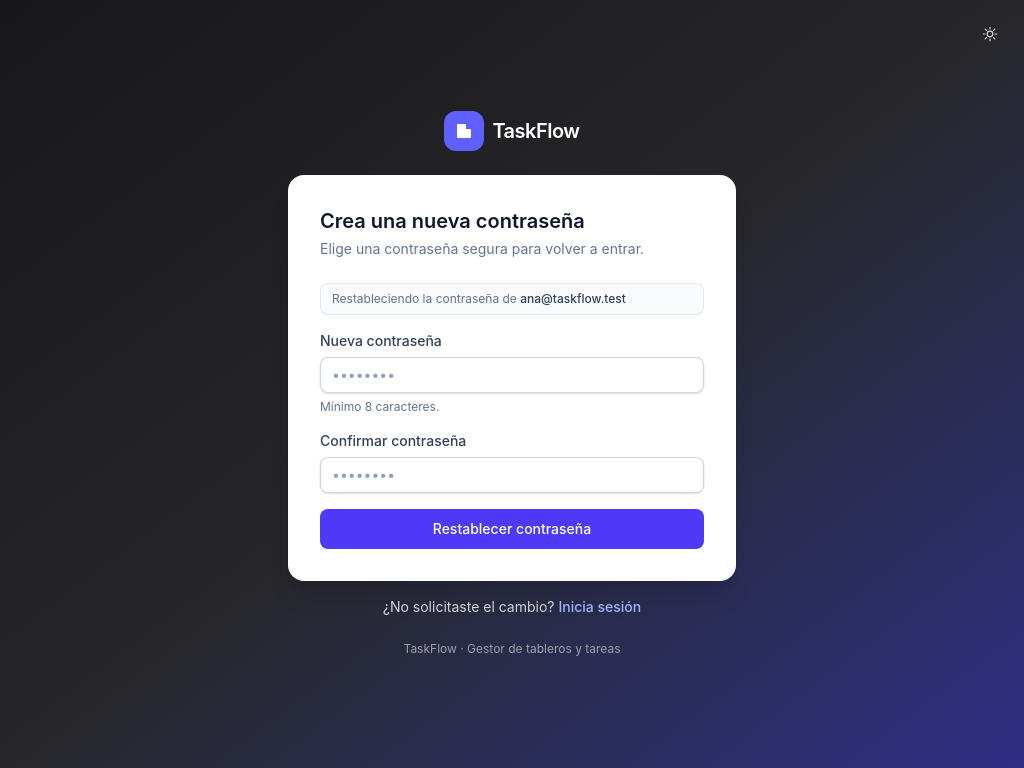
Test: ResetPasswordPage › shows the invalid token message returned by the API
In the password field labelled "Nueva contraseña": (512,375) [320,357,704,393], type "NewPassword123!"
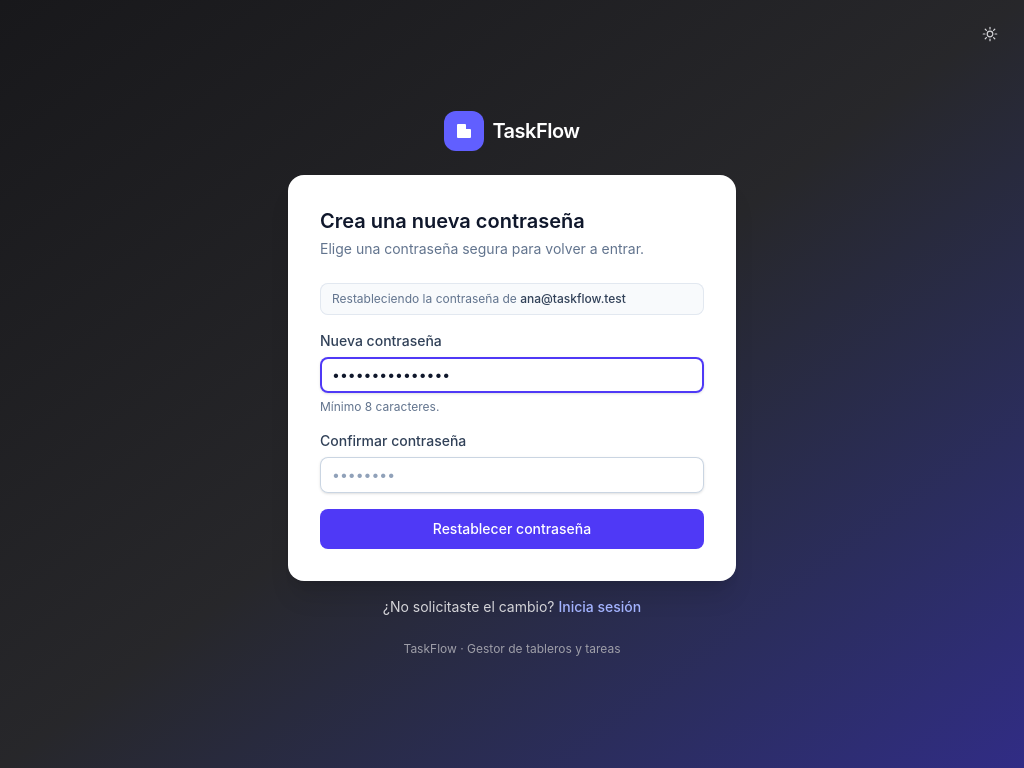
In the password field labelled "Confirmar contraseña": (512,475) [320,457,704,493], type "NewPassword123!"
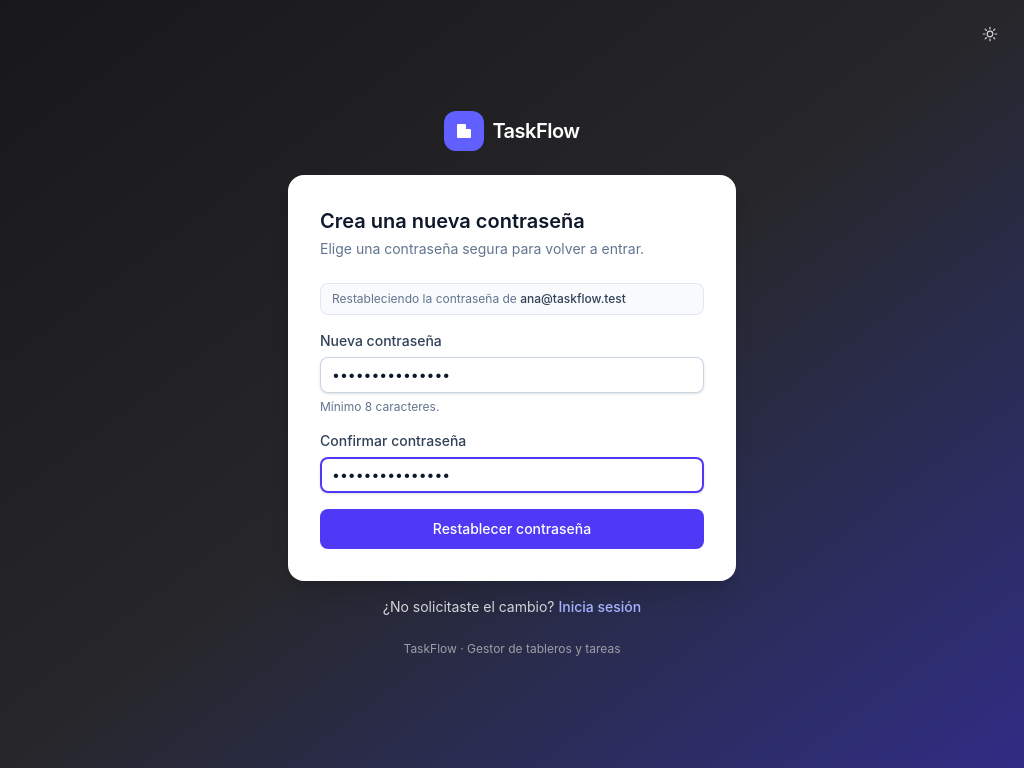
Click the button "Restablecer contraseña": (512,529) [320,509,704,549]
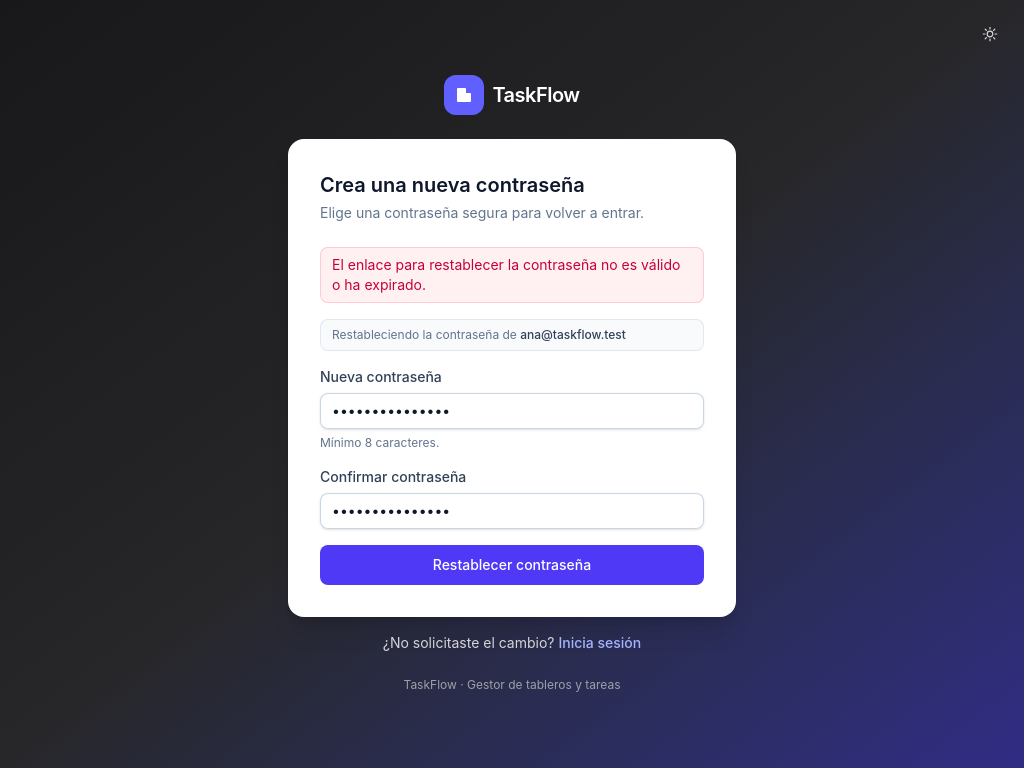
Check: the text "El enlace para restablecer la contraseña no es válido o ha expirado." is shown, box [320,247,704,303]
